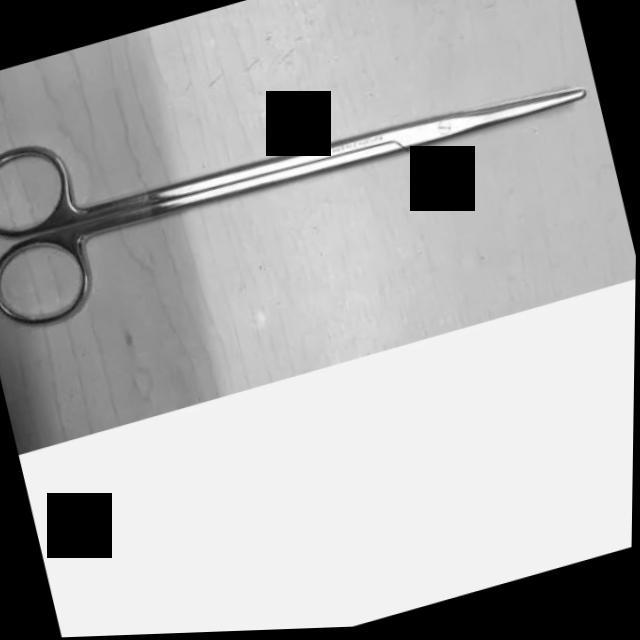Metzenbaum Sciccors: (0, 0, 617, 348)
